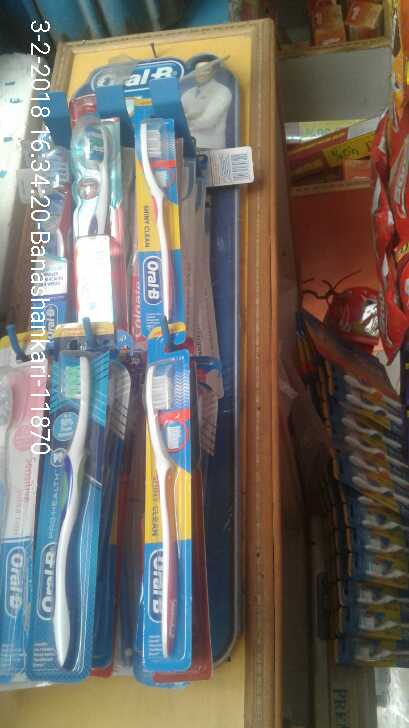oralb: (135, 355, 192, 669), (44, 353, 88, 668), (131, 124, 191, 344), (63, 124, 120, 329)
